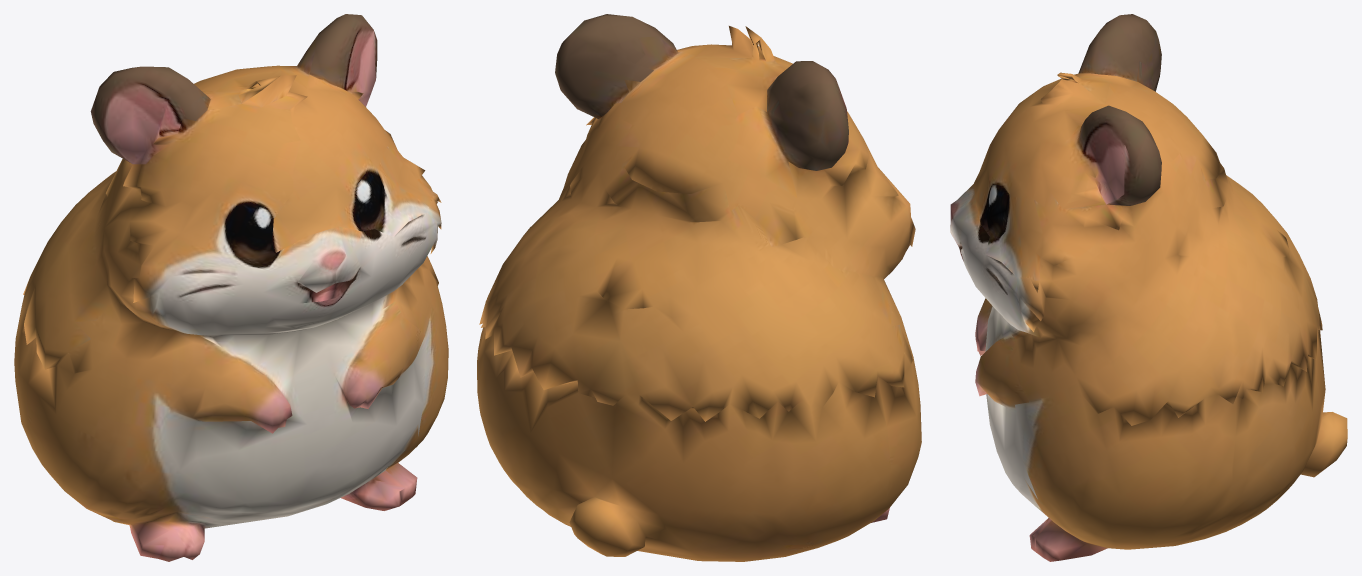
Rendered from hamster.glb.
3 renders of one model, left to right at view 1: azimuth 30°, elevation 25°; view 2: azimuth 150°, elevation 25°; view 3: azimuth 270°, elevation 25°, orthographic. The views are drawn at different scales.
Parts seen in each view (by area): view 1: model; view 2: model; view 3: model.
Boxes of the visible parts, box(x1,y1,x2,y2) form: model: box(14, 14, 448, 561); model: box(477, 14, 921, 561); model: box(950, 14, 1347, 561).
Bounding box in the file's own units: 1.69 × 1.9 × 1.56.
Materials: 1 (1 with a texture image).
